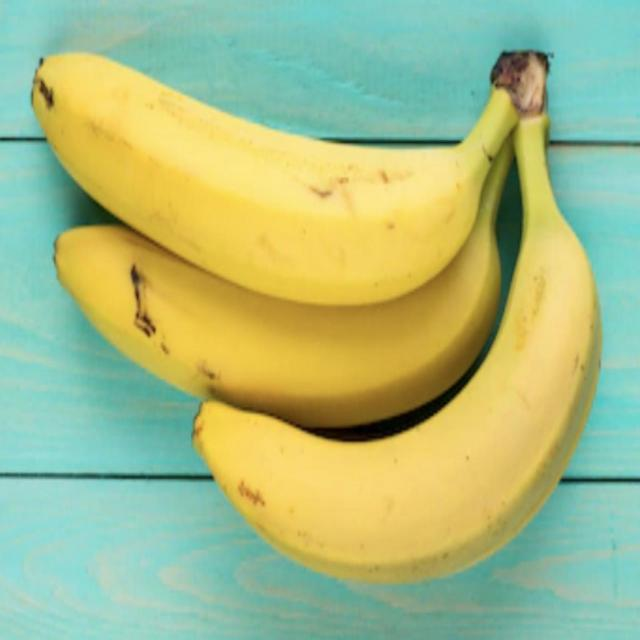banana: (191, 105, 624, 594), (7, 0, 505, 309)
